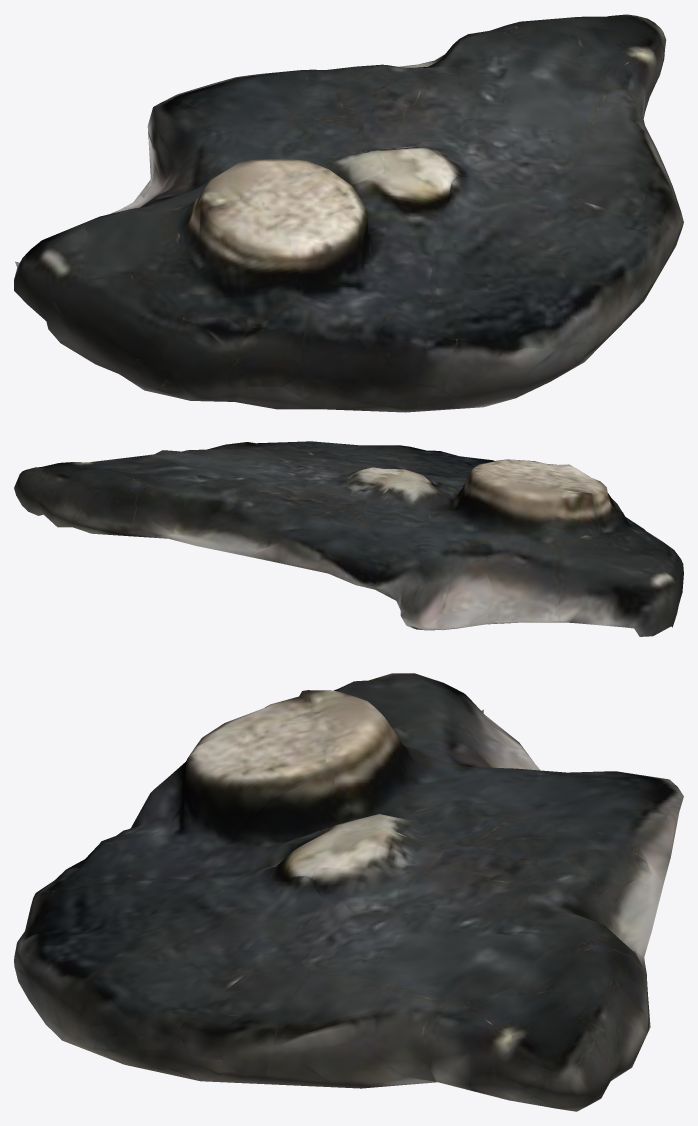
Rendered from hall.glb.
The picture shows the model from 3 angles, top to bottom: view 1: azimuth 30°, elevation 25°; view 2: azimuth 150°, elevation 25°; view 3: azimuth 270°, elevation 25°; orthographic projection. The views are drawn at different scales.
Bounding box in the file's own units: 0.7 × 0.1715 × 0.4668.
Materials: 1 (1 with a texture image).
